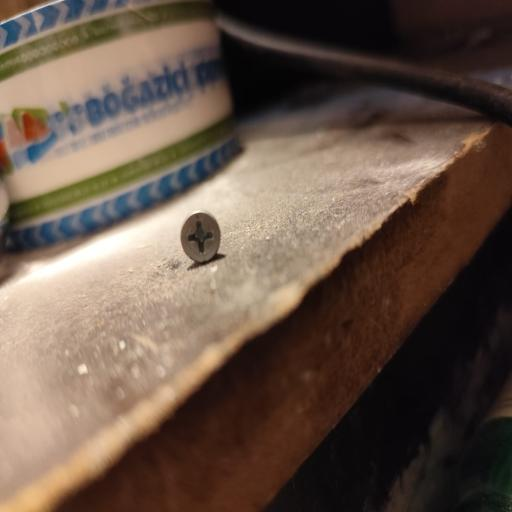Phillips: (179, 203, 225, 273)
